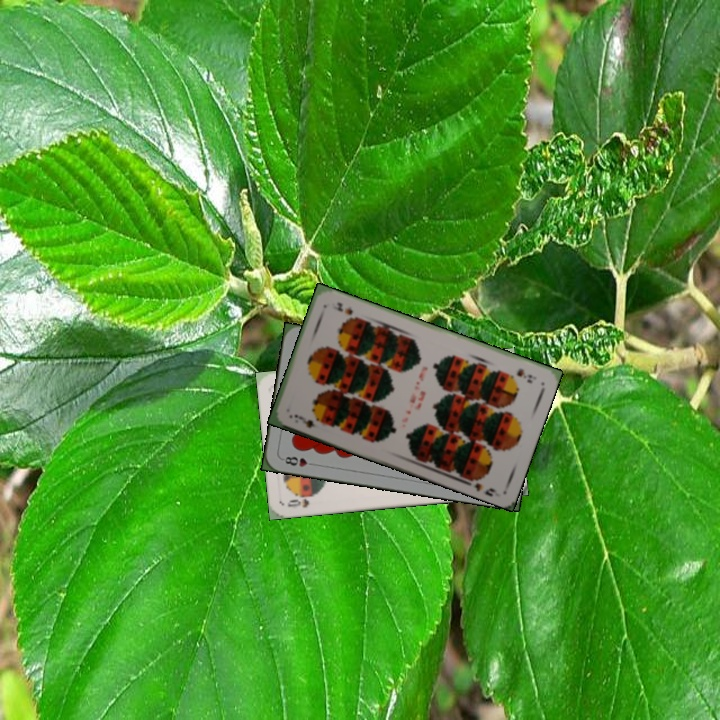H8: (278, 452, 319, 469)
S9: (290, 410, 317, 431), (512, 364, 535, 385)
SO: (283, 491, 316, 510)
